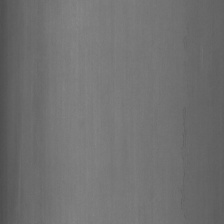silk_spot: (178, 97, 195, 200)
